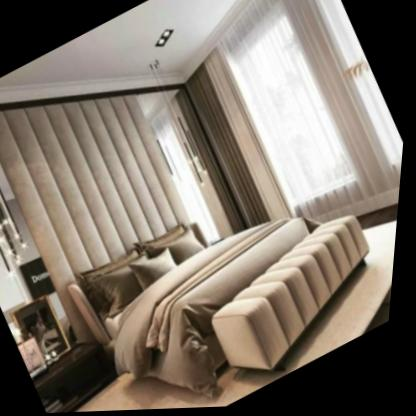Bed: (70, 211, 382, 404)
Curtains: (201, 0, 406, 220)
Wall Panel: (0, 83, 251, 360)
